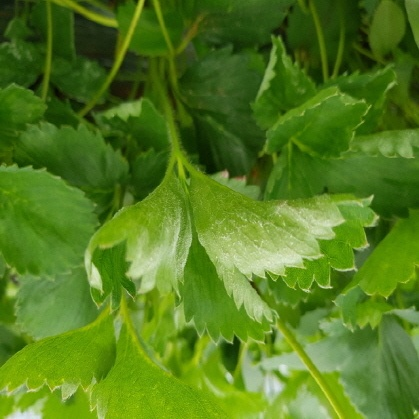Powdery_Leaf: (189, 125, 379, 247), (179, 72, 281, 283), (83, 106, 192, 242)
